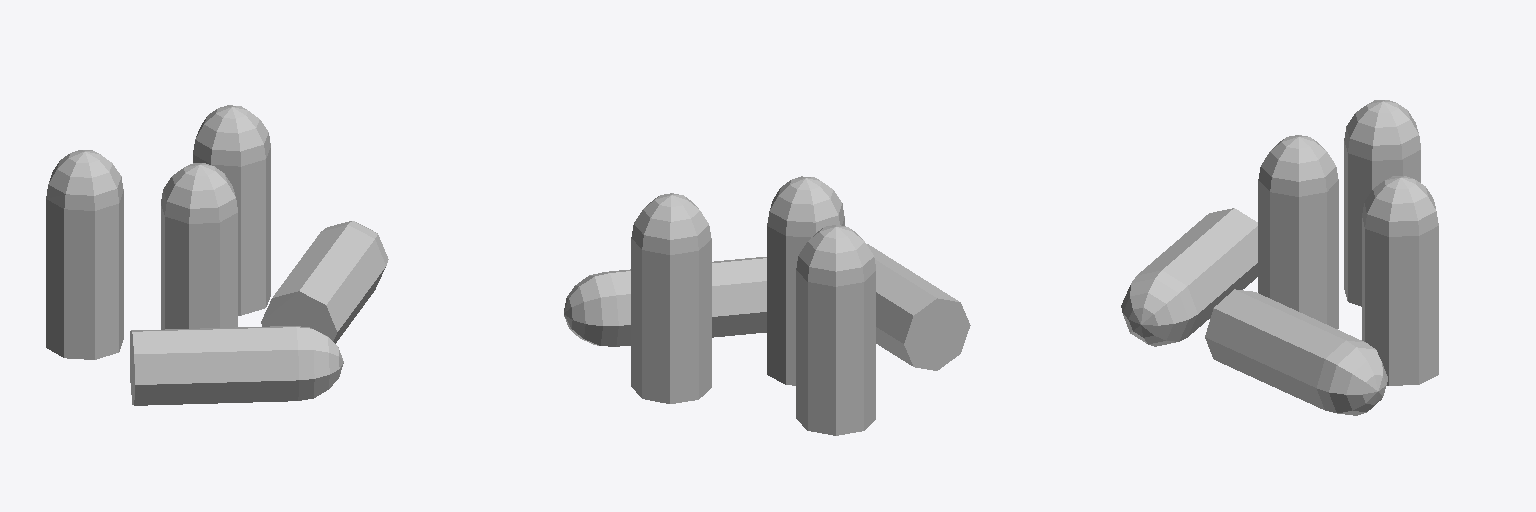
The model's file is ammo_pistol_loose_5pcs_mp_1.obj.
The picture shows the model from 3 angles: view 1: azimuth 30°, elevation 25°; view 2: azimuth 150°, elevation 25°; view 3: azimuth 270°, elevation 25°; orthographic projection.
Parts seen in each view (by area): view 1: ammo_pistol_loose_5pcs_mp_1; view 2: ammo_pistol_loose_5pcs_mp_1; view 3: ammo_pistol_loose_5pcs_mp_1.
Part boxes in pixels (left/top/right/bottom): ammo_pistol_loose_5pcs_mp_1: left=46, top=105, right=388, bottom=405; ammo_pistol_loose_5pcs_mp_1: left=564, top=176, right=970, bottom=435; ammo_pistol_loose_5pcs_mp_1: left=1121, top=100, right=1438, bottom=415.
Bounding box in the file's own units: 0.0651 × 0.037 × 0.0554.